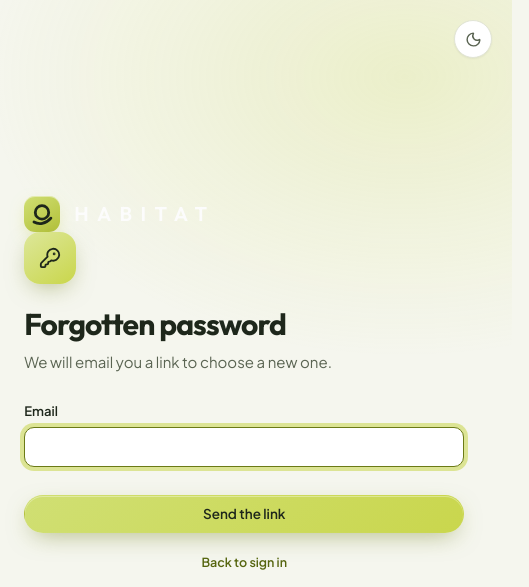
Test: forgotten password › says the same thing whether or not the account exists
Step 1. Type "nobody@example.test" into the field labelled "Email" → (244, 447), box [24, 427, 464, 467]
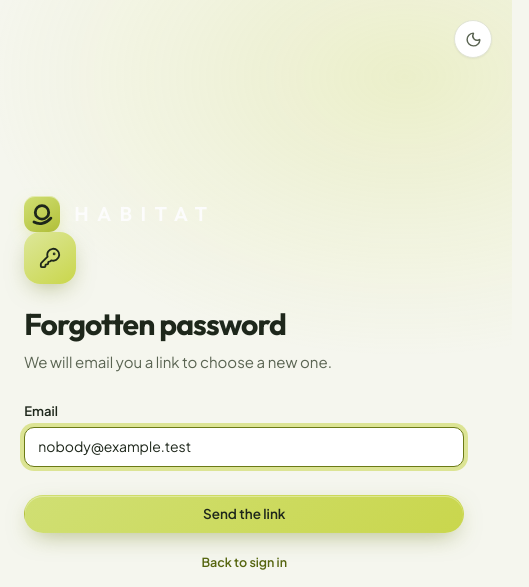
Step 2. Click the button "Send the link" → (244, 514), box [24, 495, 464, 533]
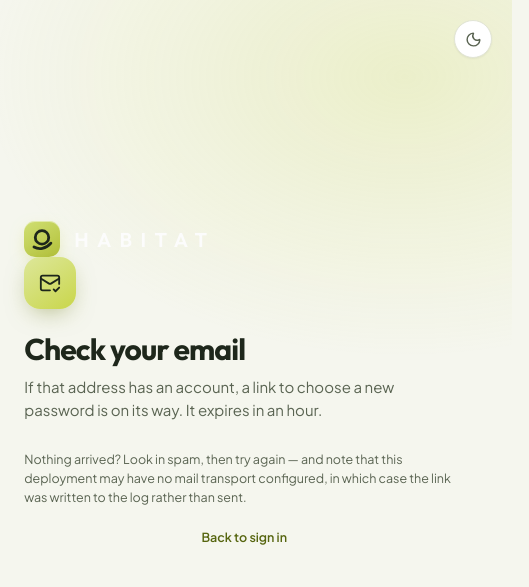
Expected: the text "If that address has an account" is shown, [24, 377, 394, 419]
